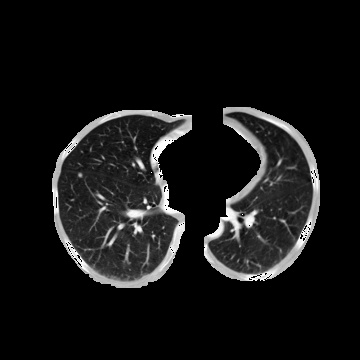PN: (78, 173, 82, 177)
